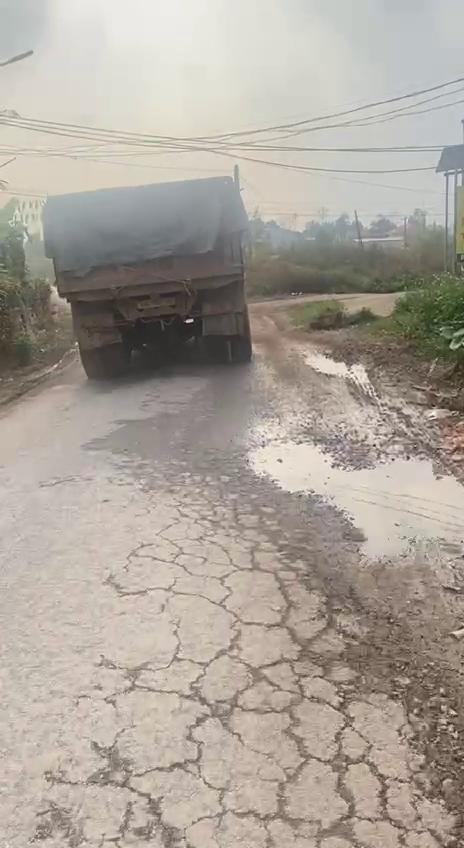pothole: (239, 430, 464, 565)
